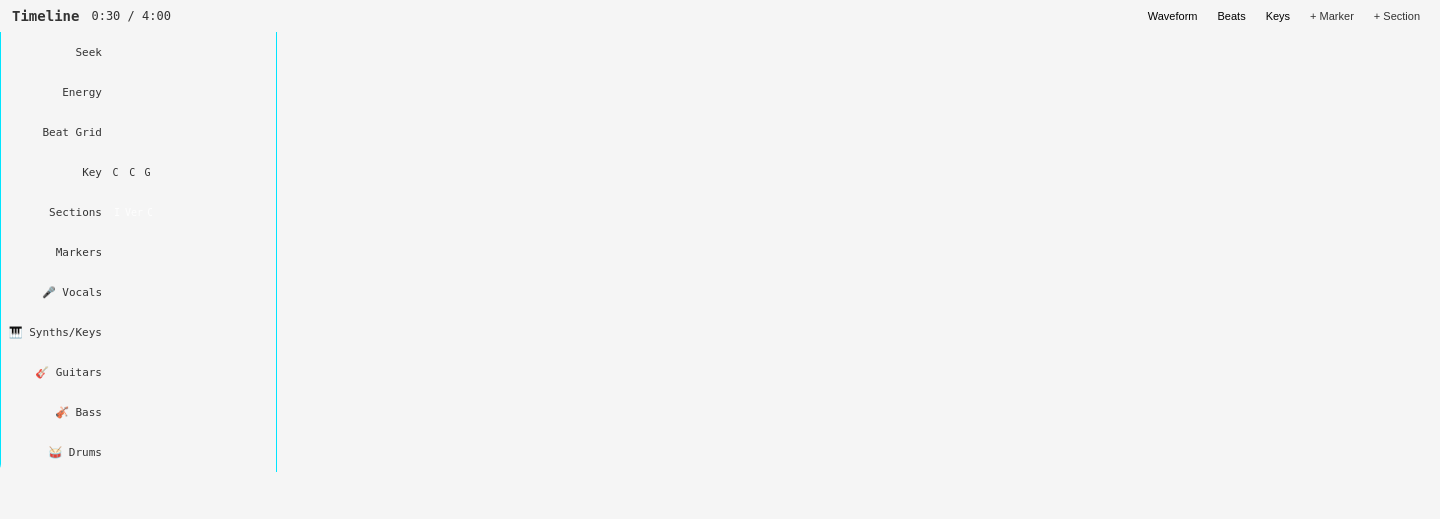
Test: AuditTimeline › sections lane › opens add section form on + Section click
Click the button "+ Section": (1397, 16) [1366,8,1428,24]
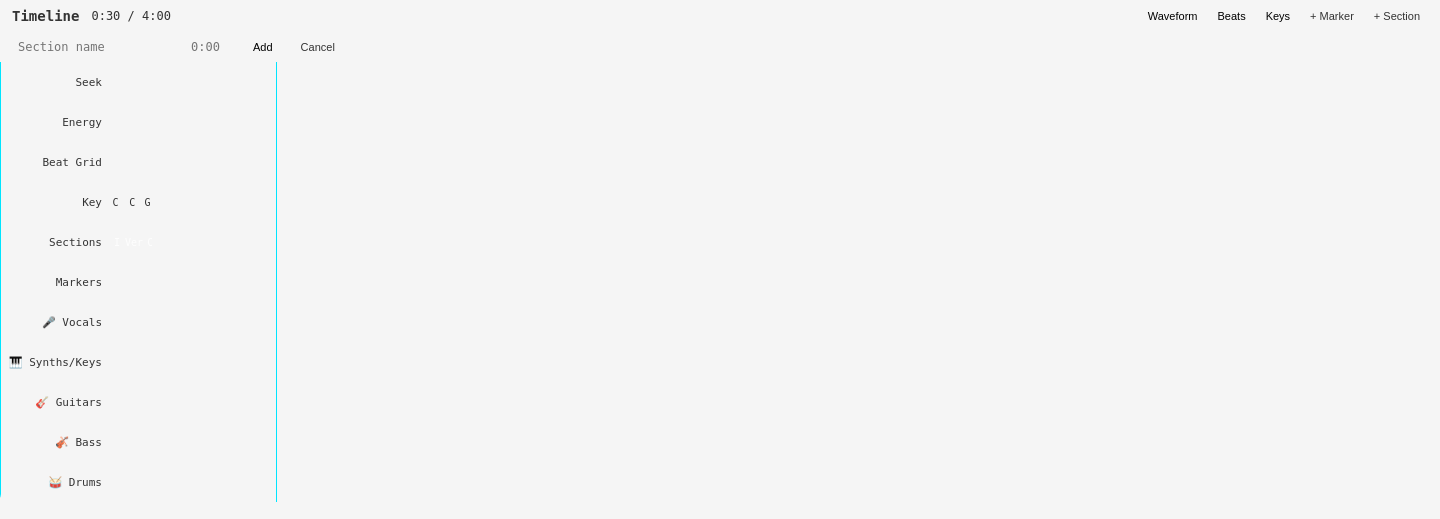
Check: the field with placeholder "Section name" is shown, box [12,38,177,56]
Check: the field with placeholder "0:00" is shown, box [185,38,235,56]
